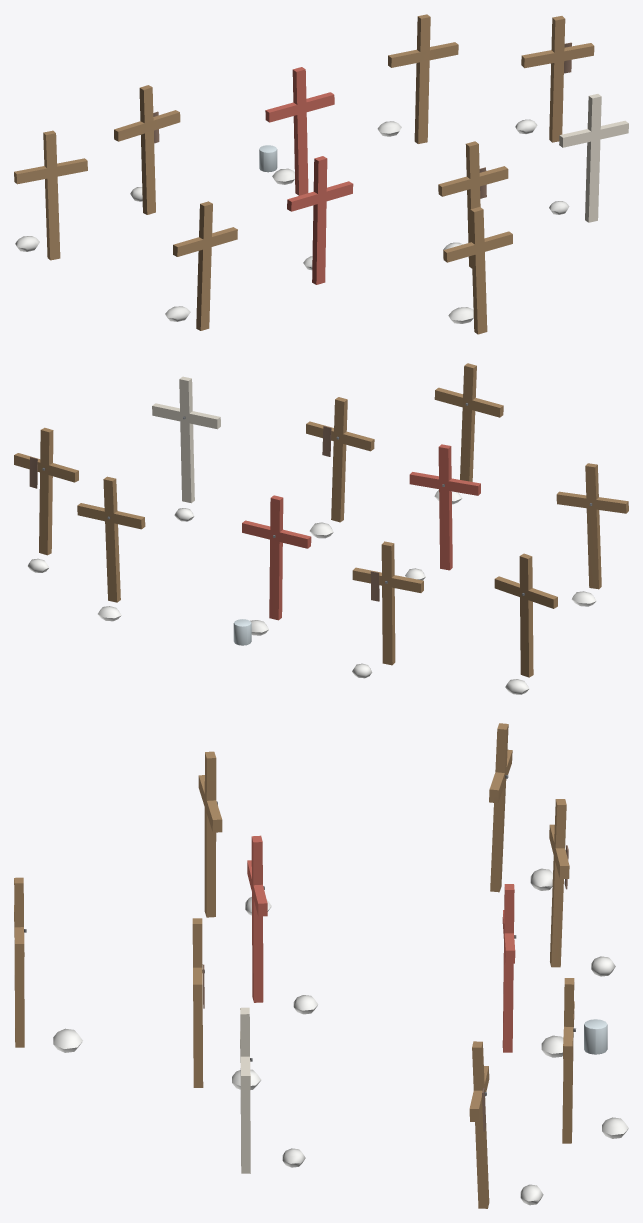
File: crosses.glb
The picture shows the model from 3 angles, top to bottom: view 1: azimuth 30°, elevation 25°; view 2: azimuth 150°, elevation 25°; view 3: azimuth 270°, elevation 25°; orthographic projection. The views are drawn at different scales.
Visible parts, largest first — view 1: PART; view 2: PART; view 3: PART.
Boxes of the visible parts, box(x1,y1,x2,y2) form: PART: box(14, 14, 628, 334); PART: box(14, 363, 628, 694); PART: box(14, 723, 628, 1208).
Size of the model in its own units: 3.58 by 0.7731 by 2.58.
